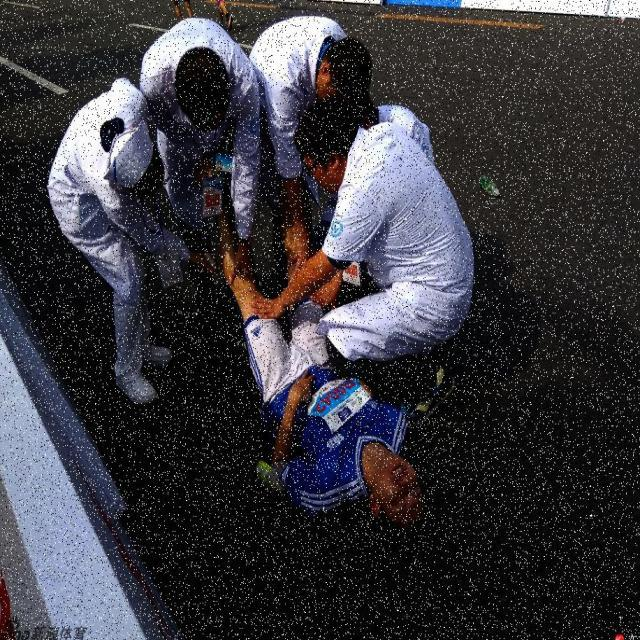fall: (222, 203, 422, 555)
